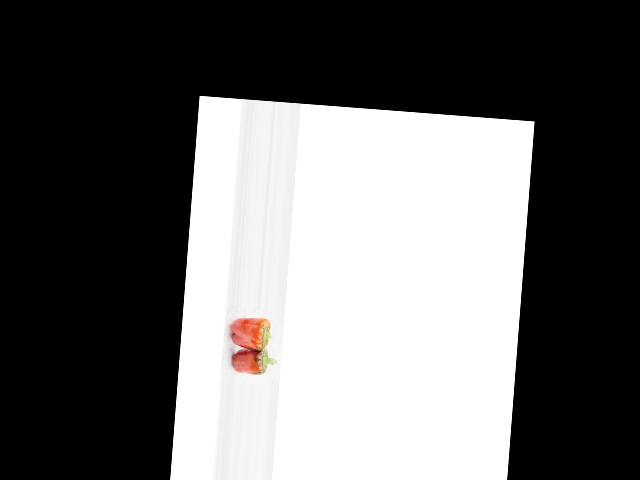bell_pepper: (228, 310, 277, 350)
